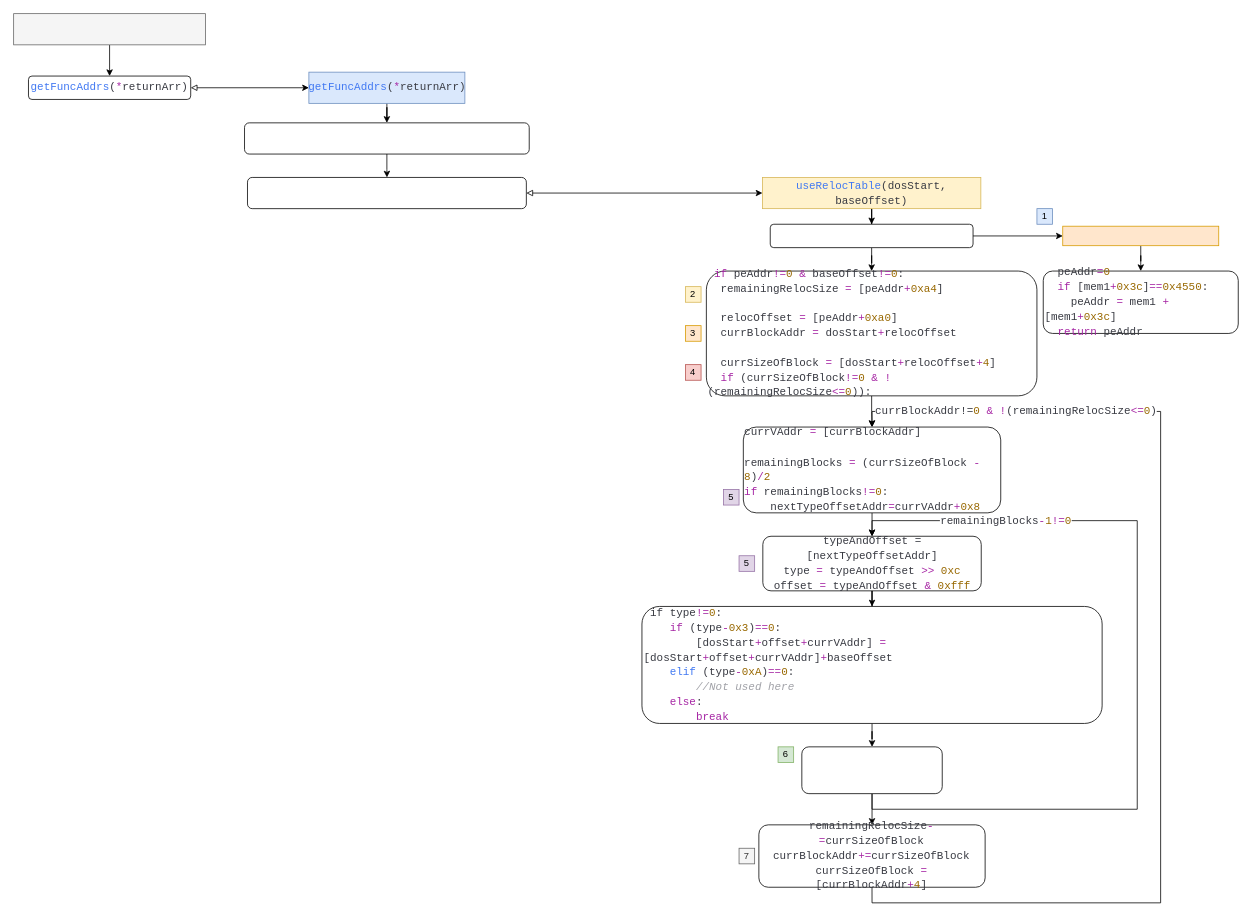
This 1252x923 diagram has some shape labels left out. Here are the shapes that lost their labels. From the top down, the box of each, then its label:
(13, 13, 206, 45): decrypytedEntry ( * returnArr)
(244, 122, 529, 154): newXMem = [returnArr + 0x54 ] newXMemMinus0x400000 = [returnArr + 0x58 ]
(247, 177, 526, 209): useRelocTable (newXMem, newXMemMinus0x400000)
(769, 223, 973, 248): peAddr = getPEHeader_d (dosStart)
(1062, 225, 1219, 246): getPEHeader_d (mem1)
(801, 746, 942, 794): nextTypeOffsetAddr += 0x2 remainingBlocks -= 1
